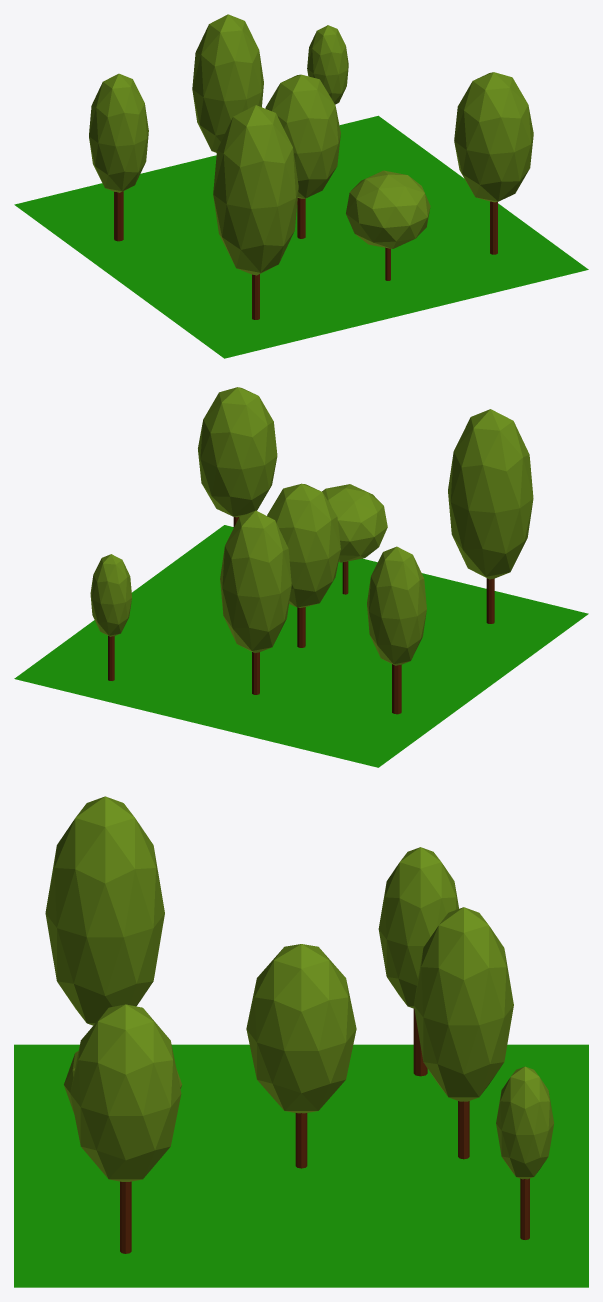
File: ParkTile.fbx
3 views of the same model, one above another, from view 1: azimuth 30°, elevation 25°; view 2: azimuth 150°, elevation 25°; view 3: azimuth 270°, elevation 25° (orthographic). The views are drawn at different scales.
Visible parts, largest first — view 1: ParkTile; view 2: ParkTile; view 3: ParkTile.
Boxes of the visible parts, x1,y1,x2,y2 form: ParkTile: [14, 14, 588, 358]; ParkTile: [14, 387, 588, 767]; ParkTile: [14, 796, 588, 1287].
Size of the model in its own units: 1000 by 1000 by 562.
